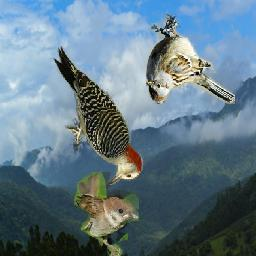Sparrow: (147, 14, 236, 104), (75, 172, 140, 256)
Woodpecker: (52, 47, 144, 186)
